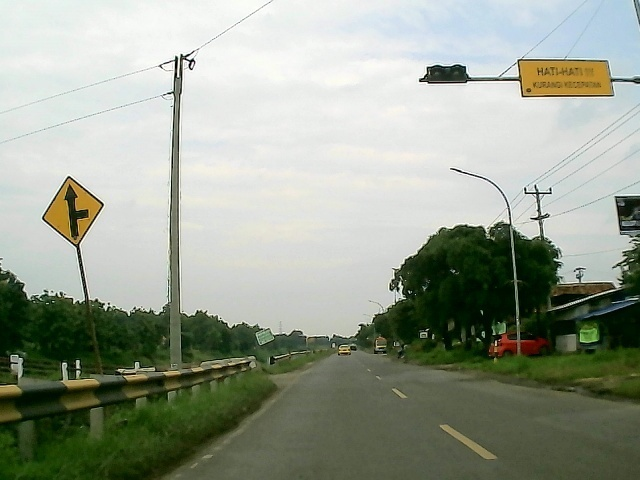Simpang kanan dengan prioritas: (35, 174, 108, 249)
